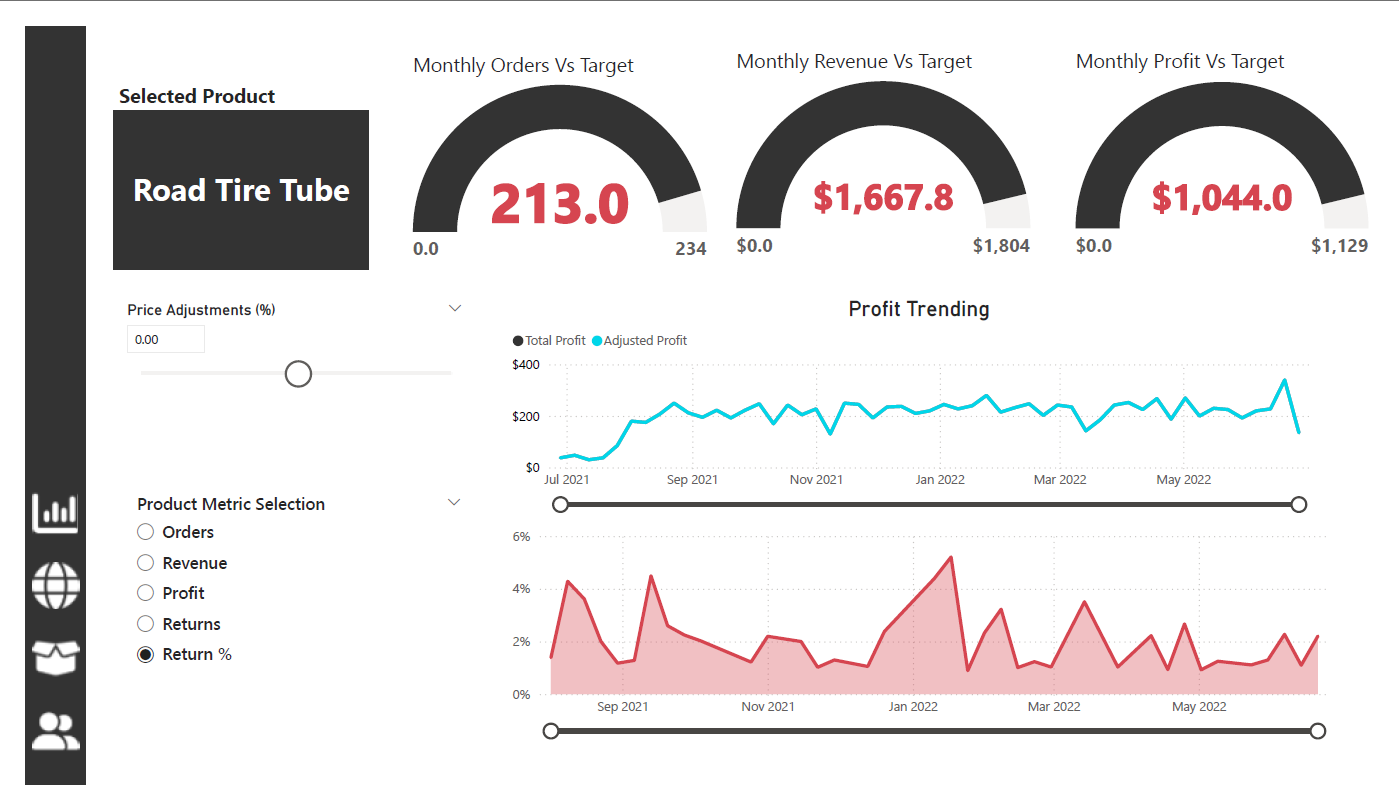

Layout of this report page (visuals, bound fields, positions):
{"tool":"powerbi","page":{"name":"Product Detail","canvas":[1280,720],"ordinal":2},"visuals":[{"type":"shape","box":[0,0,45,720],"z":0},{"type":"actionButton","box":[2.5,516.7,45.6,37.8],"z":0,"group":"g1"},{"type":"gauge","title":"Monthly Orders vs. Target","fields":{"Y":["Measure Table.Total Orders"],"MaxValue":["Measure Table.Order Target"]},"box":[383.7,41.5,236.9,203.7],"z":1000},{"type":"actionButton","box":[3.3,563.4,45.6,37.8],"z":1000,"group":"g1"},{"type":"gauge","title":"Monthly Revenue vs. Target","fields":{"Y":["Measure Table.Total Revenue"],"MaxValue":["Measure Table.Revenue Target"]},"box":[683.5,41.5,236.9,203.7],"z":2000},{"type":"actionButton","box":[3.3,611.1,45.6,37.8],"z":2000,"group":"g1"},{"type":"gauge","title":"Monthly Profit vs. Target","fields":{"Y":["Measure Table.Total Profit"],"MaxValue":["Measure Table.Profit Target"]},"box":[983.4,41.8,236.2,203.5],"z":3000},{"type":"actionButton","box":[3.3,657.8,45.6,37.8],"z":3000,"group":"g1"},{"type":"lineChart","title":"Profit Trending","fields":{"Category":["Calendar Lookup.Date Hierarchy.Year","Calendar Lookup.Date Hierarchy.Start of Month","Calendar Lookup.Date Hierarchy.Start of Week","Calendar Lookup.Date Hierarchy.Date"],"Y":["Measure Table.Total Profit","Measure Table.Adjusted Profit"]},"box":[290.5,237.4,952.8,221.5],"z":4000},{"type":"areaChart","title":"Return Trending","fields":{"Y":["Measure Table.Total Profit"],"Category":["Calendar Lookup.Date Hierarchy.Year","Calendar Lookup.Date Hierarchy.Start of Month","Calendar Lookup.Date Hierarchy.Start of Week","Calendar Lookup.Date Hierarchy.Date"]},"box":[290.5,471.3,708.7,221.5],"z":5000},{"type":"card","fields":{"Values":["Min(Product Lookup.ProductName)"]},"box":[83.6,61,235.1,134.5],"z":6000},{"type":"textbox","box":[83.6,32.8,136.8,36.2],"z":7000},{"type":"group","id":"g1","title":"Navigation Buttons","box":[2.5,516.7,46.4,178.9],"z":8000},{"type":"slicer","fields":{"Values":["Price Adjustment (%).Price Adjustment (%)"]},"box":[83.6,245.3,193.3,123.2],"z":9000},{"type":"slicer","fields":{"Values":["Product Metric Selection.Product Metric Selection"]},"box":[83.6,477,193.3,180.8],"z":10000},{"type":"textbox","title":"Report Summary","box":[999.2,478.1,253.2,208],"z":11000}]}

Visuals, with their boxes on the page's 1280x720 design canvas (x1, y1, x2, y2). These are canvas units, not pixel positions in the 1399x809 screenshot, which may show the page scaled, cropped or inside an application window:
shape: box(0, 0, 45, 720)
actionButton: box(2, 517, 48, 554)
"Monthly Orders vs. Target" gauge: box(384, 42, 621, 245)
actionButton: box(3, 563, 49, 601)
"Monthly Revenue vs. Target" gauge: box(684, 42, 920, 245)
actionButton: box(3, 611, 49, 649)
"Monthly Profit vs. Target" gauge: box(983, 42, 1220, 245)
actionButton: box(3, 658, 49, 696)
"Profit Trending" lineChart: box(290, 237, 1243, 459)
"Return Trending" areaChart: box(290, 471, 999, 693)
card - Min(Product Lookup.ProductName): box(84, 61, 319, 196)
textbox: box(84, 33, 220, 69)
"Navigation Buttons" group: box(2, 517, 49, 696)
slicer - Price Adjustment (%).Price Adjustment (%): box(84, 245, 277, 368)
slicer - Product Metric Selection.Product Metric Selection: box(84, 477, 277, 658)
"Report Summary" textbox: box(999, 478, 1252, 686)
